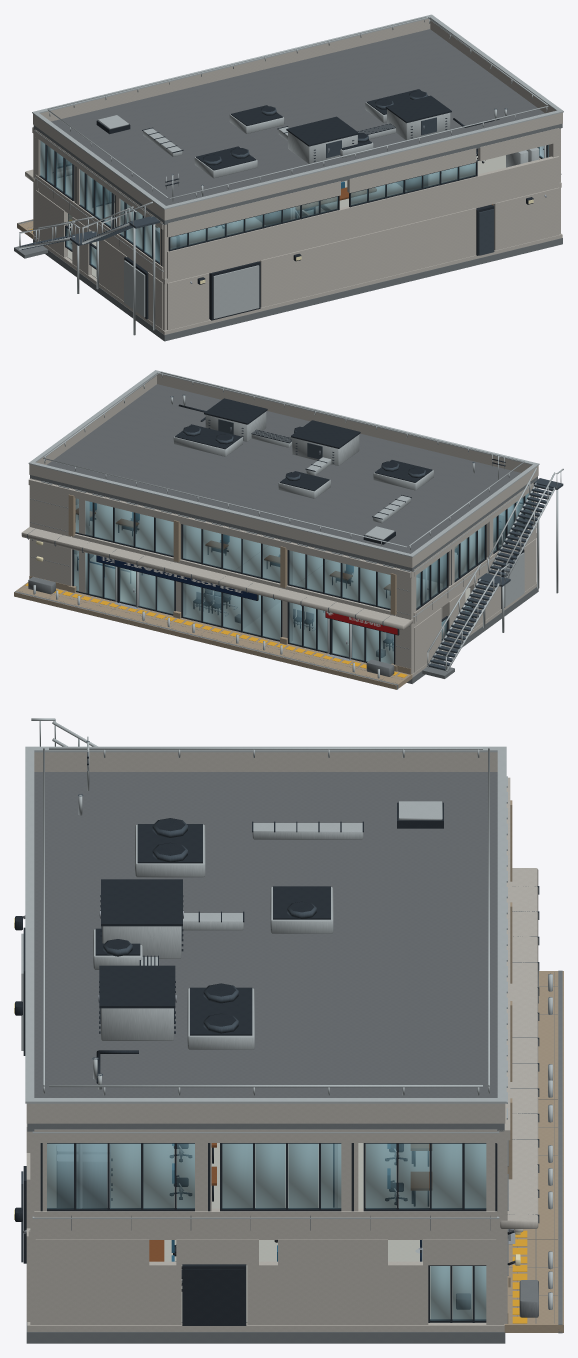
File: RAIL10_lod2.glb
3 renders of one model, top to bottom at view 1: azimuth 30°, elevation 25°; view 2: azimuth 150°, elevation 25°; view 3: azimuth 270°, elevation 25°, orthographic. The views are drawn at different scales.
Parts seen in each view (by area): view 1: Roof_Membrane__roof, Facade_RearUpper__concrete, Facade_RearWall__concrete, Roof_Parapet__concrete, Facade_Windows__glass, Roof_Coping__steel_light, Facade_RightWall__concrete, Structure_Foundation__concrete_dark, Facade_Windows__steel_black, Interior_UpperFinish__tile, Structure_Mezzanine__concrete, Roof_EquipmentTopFlashing__steel_black (+24 smaller); view 2: Roof_Membrane__roof, Facade_Windows__glass, Roof_Parapet__concrete, Interior_UpperFinish__tile, Interior_Finish__tile, Structure_PublicPaving__stone, Facade_Windows__steel_black, Facade_FrontCanopy__concrete, Facade_PrecastCornerMassing__concrete, Roof_Coping__steel_light, Details_ExternalStairs__steel, Facade_RightWall__concrete (+34 smaller); view 3: Roof_Membrane__roof, Facade_LeftWall__concrete, Facade_Windows__glass, Interior_UpperFinish__tile, Roof_Parapet__concrete, Roof_Coping__steel_light, Facade_FrontCanopy__concrete, Facade_SideSpandrel__concrete, Structure_PublicPaving__stone, Roof_EquipmentTopFlashing__steel_black, Facade_SideHeader__concrete, Structure_Foundation__concrete_dark (+27 smaller).
Boxes of the visible parts, bbox=[...] form: Roof_Membrane__roof: bbox=[51, 29, 544, 205]; Facade_RearUpper__concrete: bbox=[167, 128, 559, 278]; Facade_RearWall__concrete: bbox=[167, 187, 559, 330]; Roof_Parapet__concrete: bbox=[33, 18, 562, 220]; Facade_Windows__glass: bbox=[40, 141, 548, 267]; Roof_Coping__steel_light: bbox=[32, 14, 563, 209]; Facade_RightWall__concrete: bbox=[35, 190, 162, 329]; Structure_Foundation__concrete_dark: bbox=[33, 238, 562, 341]; Facade_Windows__steel_black: bbox=[39, 144, 548, 269]; Interior_UpperFinish__tile: bbox=[57, 155, 560, 279]; Structure_Mezzanine__concrete: bbox=[39, 182, 561, 284]; Roof_EquipmentTopFlashing__steel_black: bbox=[286, 95, 451, 146]; Roof_Membrane__roof: bbox=[47, 384, 520, 553]; Facade_Windows__glass: bbox=[74, 493, 531, 663]; Roof_Parapet__concrete: bbox=[29, 374, 538, 567]; Interior_UpperFinish__tile: bbox=[76, 503, 519, 608]; Interior_Finish__tile: bbox=[74, 553, 470, 663]; Structure_PublicPaving__stone: bbox=[14, 582, 412, 689]; Facade_Windows__steel_black: bbox=[72, 491, 533, 664]; Facade_FrontCanopy__concrete: bbox=[21, 527, 412, 629]; Facade_PrecastCornerMassing__concrete: bbox=[29, 485, 411, 673]; Roof_Coping__steel_light: bbox=[28, 370, 539, 557]; Details_ExternalStairs__steel: bbox=[428, 484, 553, 670]; Facade_RightWall__concrete: bbox=[414, 539, 535, 672]; Roof_Membrane__roof: bbox=[34, 772, 497, 1097]; Facade_LeftWall__concrete: bbox=[35, 1239, 496, 1324]; Facade_Windows__glass: bbox=[47, 1143, 486, 1320]; Interior_UpperFinish__tile: bbox=[29, 1143, 485, 1230]; Roof_Parapet__concrete: bbox=[26, 752, 505, 1123]; Roof_Coping__steel_light: bbox=[25, 746, 506, 1103]; Facade_FrontCanopy__concrete: bbox=[500, 868, 538, 1228]; Facade_SideSpandrel__concrete: bbox=[34, 1208, 496, 1232]; Structure_PublicPaving__stone: bbox=[504, 971, 563, 1332]; Roof_EquipmentTopFlashing__steel_black: bbox=[99, 879, 182, 1008]; Facade_SideHeader__concrete: bbox=[34, 1129, 497, 1142]; Structure_Foundation__concrete_dark: bbox=[26, 1322, 505, 1343].
Bounding box in the file's own units: 30.16 × 9.96 × 18.39.
Materials: 23 (23 with a texture image).
